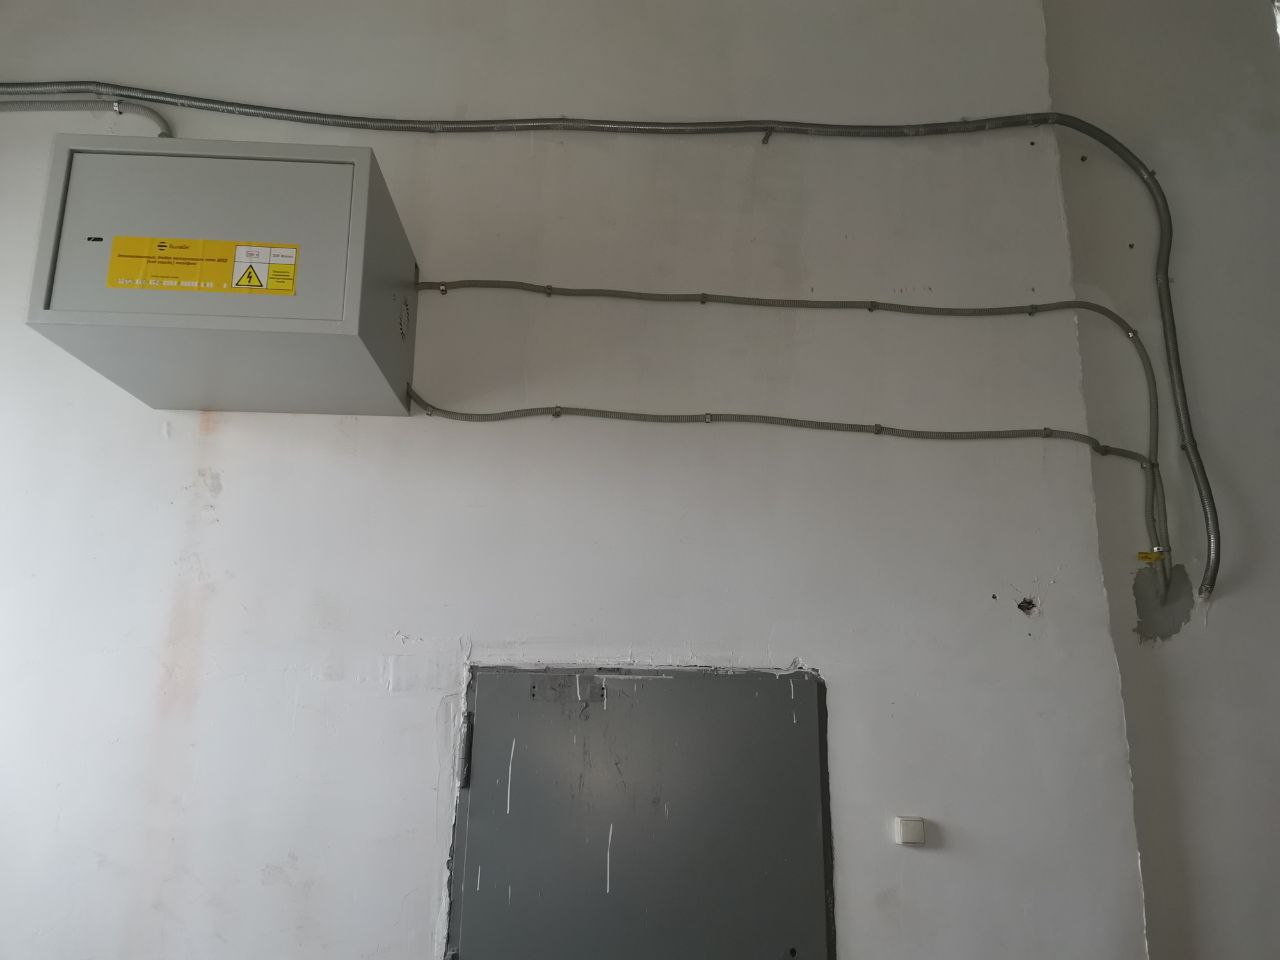shta-7m: (15, 125, 423, 421)
